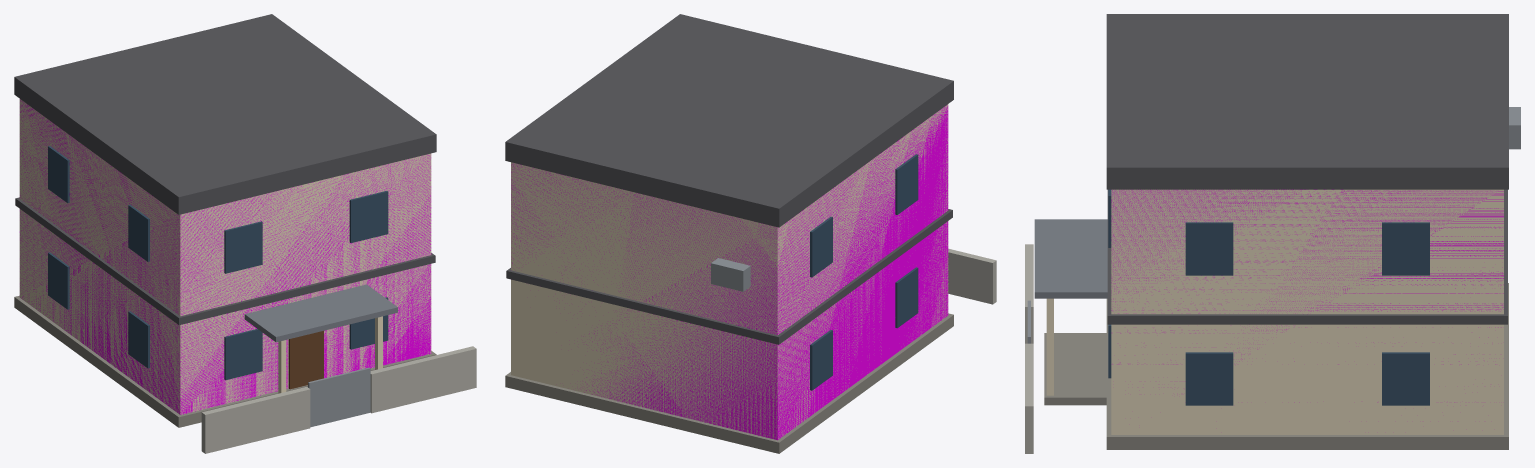
The model's file is House_2S_02.glb.
The picture shows the model from 3 angles, left to right: view 1: azimuth 30°, elevation 25°; view 2: azimuth 150°, elevation 25°; view 3: azimuth 270°, elevation 25°; orthographic projection. The views are drawn at different scales.
Visible parts, largest first — view 1: House_2S_02, House_2S_02_COL; view 2: House_2S_02, House_2S_02_COL; view 3: House_2S_02, House_2S_02_COL.
Boxes of the visible parts, x1,y1,x2,y2 form: House_2S_02: [14, 14, 476, 453]; House_2S_02_COL: [19, 99, 431, 414]; House_2S_02: [505, 14, 996, 453]; House_2S_02_COL: [511, 105, 948, 440]; House_2S_02: [1025, 14, 1520, 453]; House_2S_02_COL: [1111, 189, 1503, 402].
Size of the model in its own units: 8 by 6.5 by 10.35.
